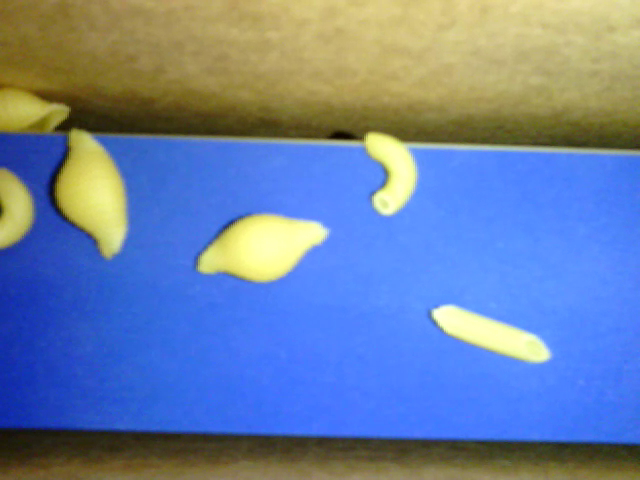elbow: (359, 127, 419, 217), (1, 158, 40, 256)
penne: (427, 303, 553, 368)
shell: (193, 211, 332, 283), (55, 119, 128, 256), (1, 80, 71, 133)
